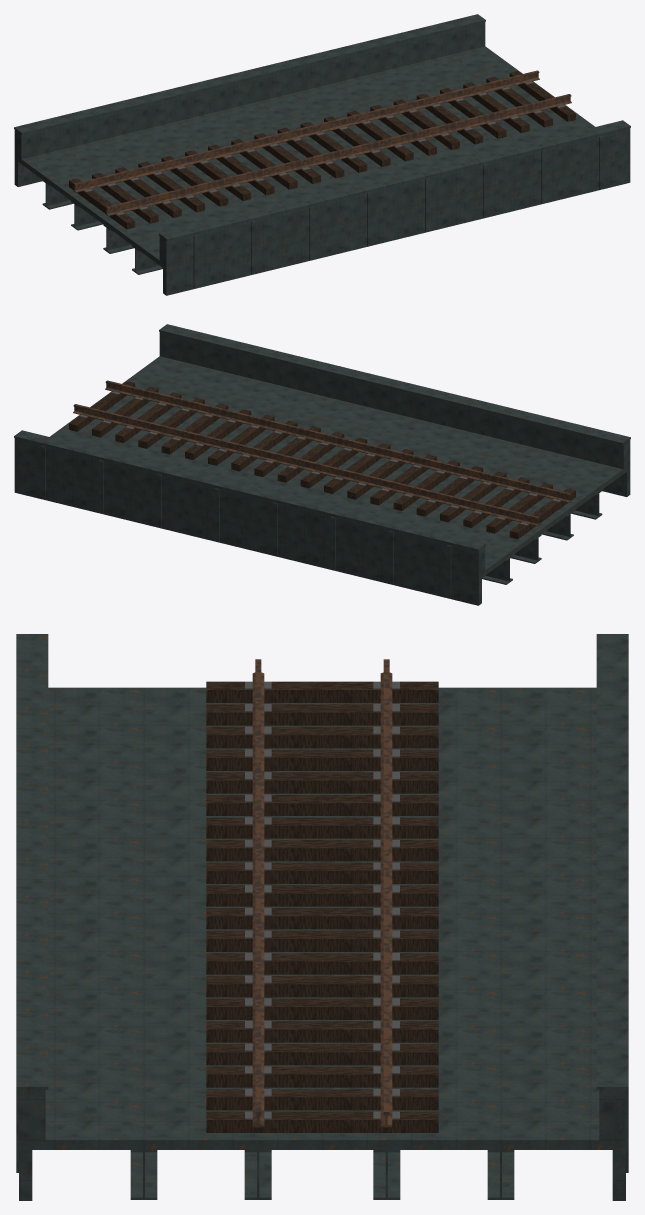
Rendered from rail-deck.glb.
The picture shows the model from 3 angles, top to bottom: view 1: azimuth 30°, elevation 25°; view 2: azimuth 150°, elevation 25°; view 3: azimuth 270°, elevation 25°; orthographic projection. The views are drawn at different scales.
Visible parts, largest first — view 1: rail_deck; view 2: rail_deck; view 3: rail_deck.
Boxes of the visible parts, x1,y1,x2,y2 form: rail_deck: (14, 14, 630, 295); rail_deck: (14, 324, 630, 605); rail_deck: (16, 634, 628, 1200).
Bounding box in the file's own units: 12 × 1.41 × 6.86.
4 materials, 3 textured.
